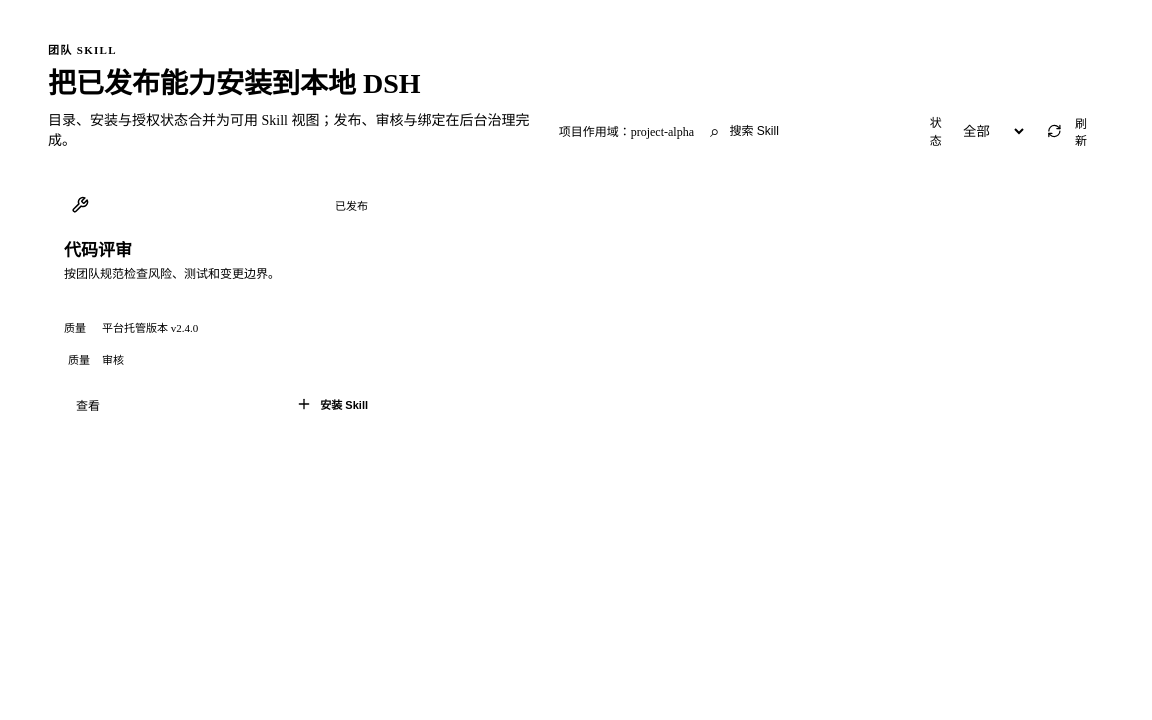
Scenario: §11.14 安装阶段证据（视图） › 成功安装的阶段证据里回滚为未执行
Expected: the heading "代码评审" is shown, [64, 241, 132, 260]
Step 1. Click the button "安装 Skill" → (332, 404), box [288, 388, 376, 420]
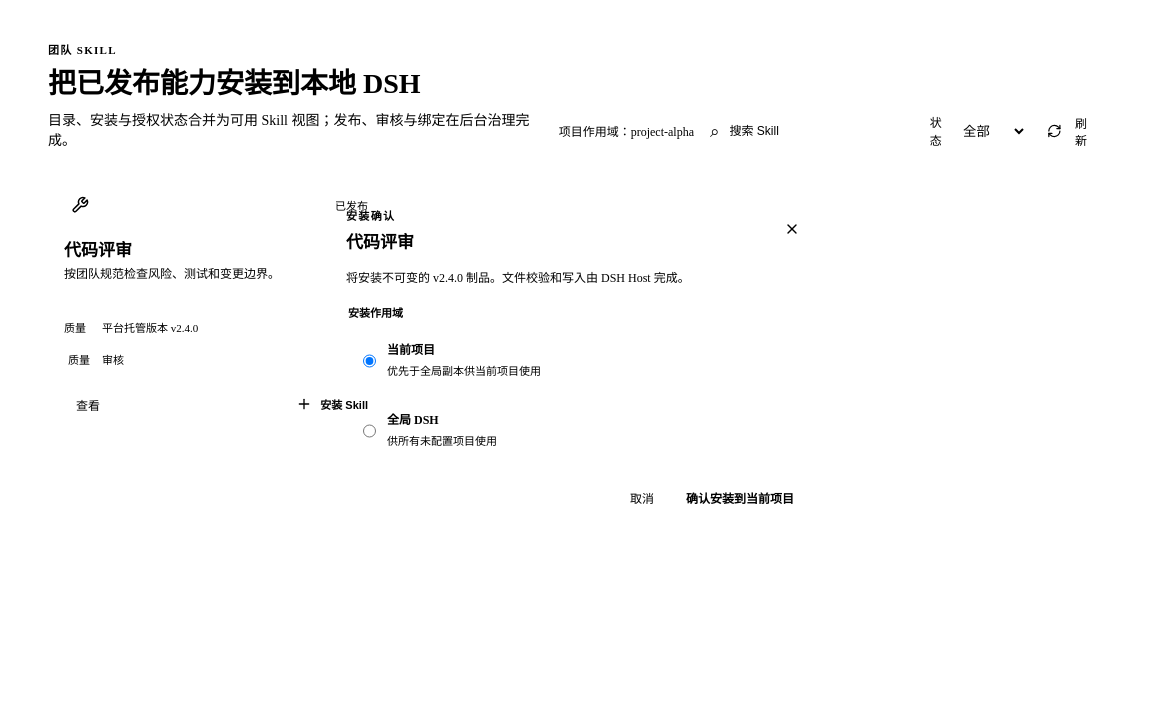
Step 2. Click the button "确认安装到当前项目" → (740, 497), box [674, 480, 806, 514]
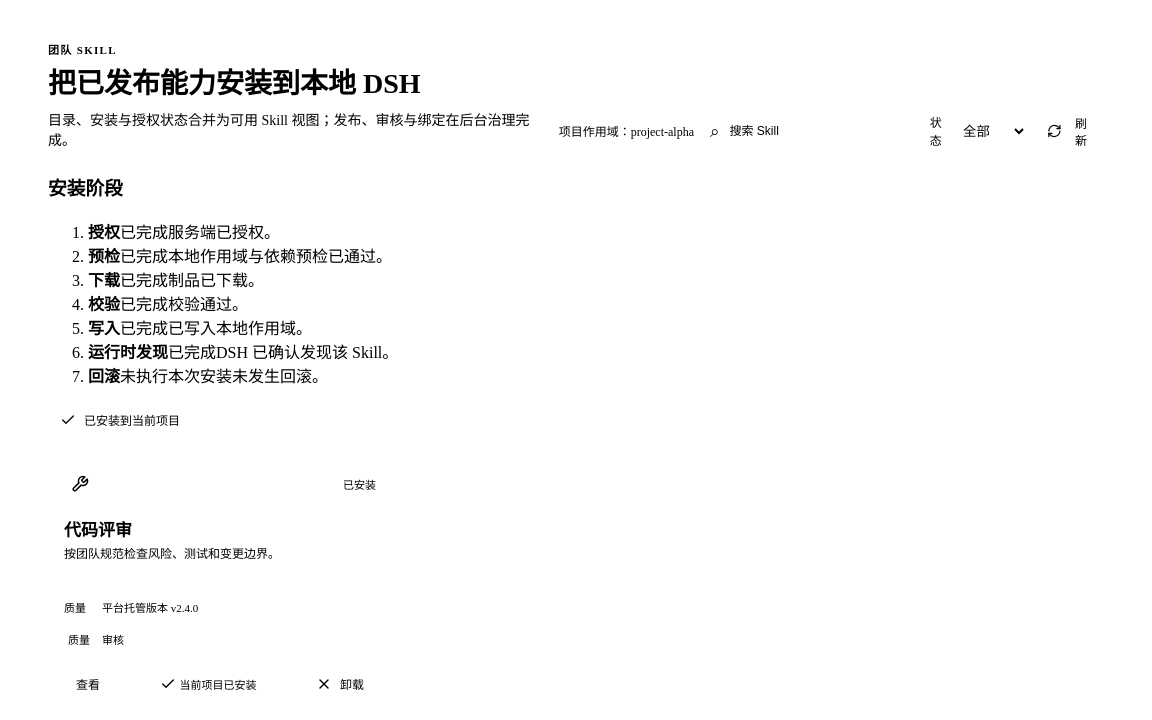
Expected: the number of list items is 7
Expected: the text "本次安装未发生回滚。" is shown, [168, 368, 328, 385]
